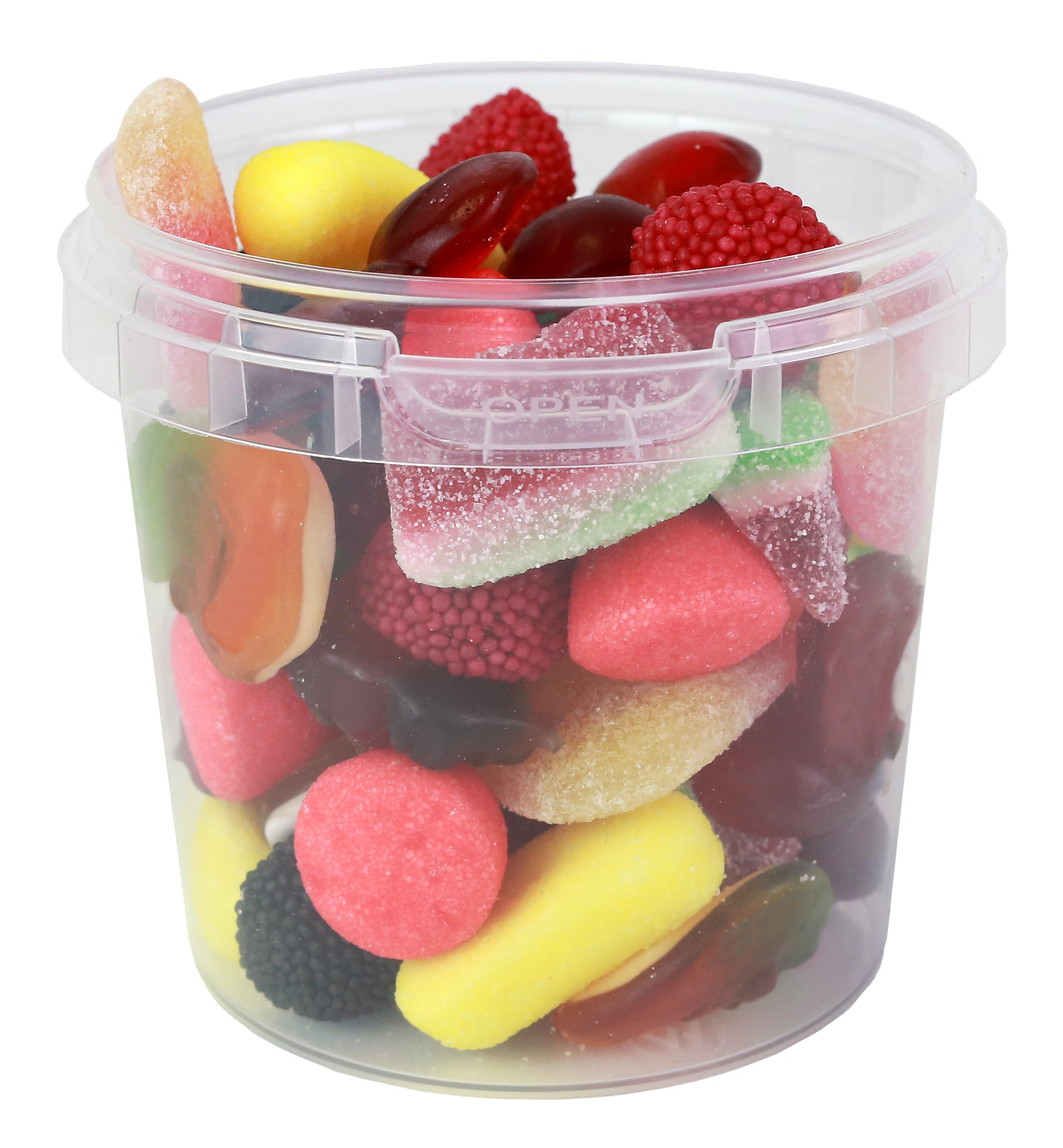Chaise: (582, 458, 853, 783)
